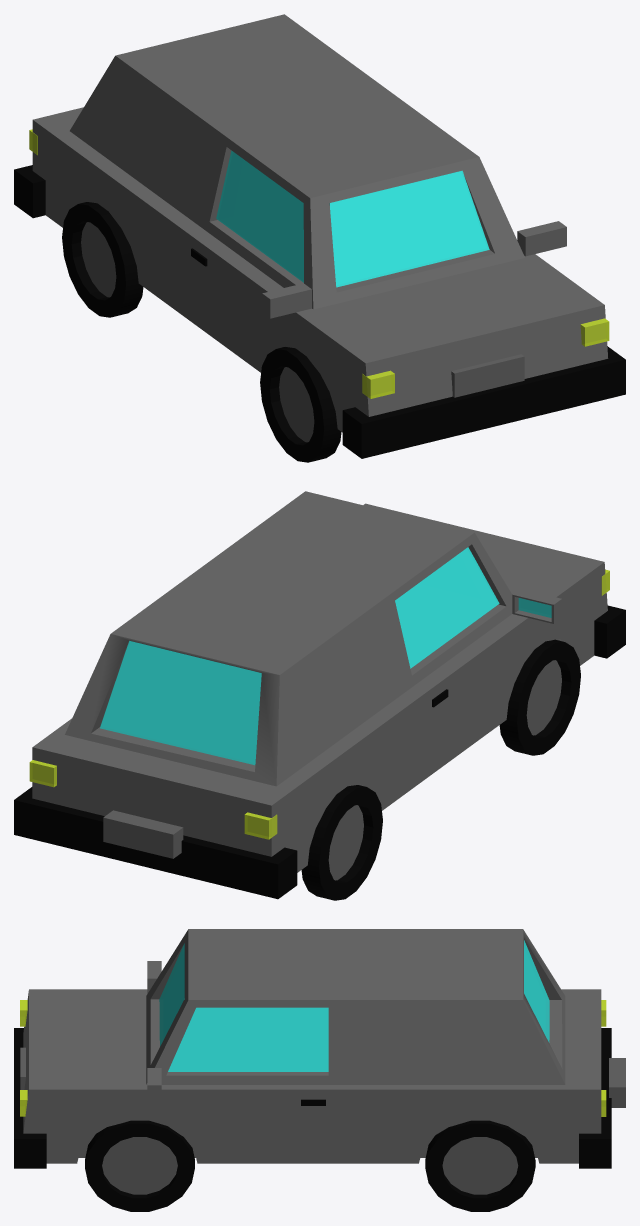
The model's file is lowpoly car1 grey.fbx.
The picture shows the model from 3 angles, top to bottom: view 1: azimuth 30°, elevation 25°; view 2: azimuth 150°, elevation 25°; view 3: azimuth 270°, elevation 25°; orthographic projection. The views are drawn at different scales.
Visible parts, largest first — view 1: Box002, Box009, Box003, Cylinder026, Cylinder008, Box012, Box004, Box013, Box008, Box173, Box006, Box005; view 2: Box002, Box178, Box013, Cylinder008, Cylinder026, Box012, Box050, Box003, Box008, Box016, Box015; view 3: Box002, Box014, Cylinder025, Cylinder027, Box013, Box003, Box009, Box178, Box050, Box173.
Boxes of the visible parts, <box> form: Box002: <box>32,14,608,432</box>; Box009: <box>329,170,489,287</box>; Box003: <box>342,346,625,458</box>; Cylinder026: <box>260,347,341,462</box>; Cylinder008: <box>62,202,143,317</box>; Box012: <box>216,150,303,282</box>; Box004: <box>451,354,524,397</box>; Box013: <box>14,165,45,218</box>; Box008: <box>262,283,311,318</box>; Box173: <box>517,221,566,256</box>; Box006: <box>362,370,394,398</box>; Box005: <box>580,318,609,346</box>; Box002: <box>32,491,607,872</box>; Box178: <box>100,641,261,765</box>; Box013: <box>14,787,297,899</box>; Cylinder008: <box>301,785,382,900</box>; Cylinder026: <box>499,639,580,755</box>; Box012: <box>395,547,499,668</box>; Box050: <box>103,810,183,858</box>; Box003: <box>594,605,625,658</box>; Box008: <box>512,588,561,623</box>; Box016: <box>244,812,277,839</box>; Box015: <box>29,760,56,787</box>; Box002: <box>23,929,601,1163</box>; Box014: <box>168,1007,328,1071</box>; Cylinder025: <box>425,1120,535,1211</box>; Cylinder027: <box>85,1120,194,1211</box>; Box013: <box>579,1028,611,1168</box>; Box003: <box>14,1028,46,1168</box>; Box009: <box>159,943,184,1046</box>; Box178: <box>524,940,549,1042</box>; Box050: <box>609,1058,625,1107</box>; Box173: <box>147,1068,161,1101</box>.
Bounding box in the file's own units: 52.22 × 38.2 × 109.
